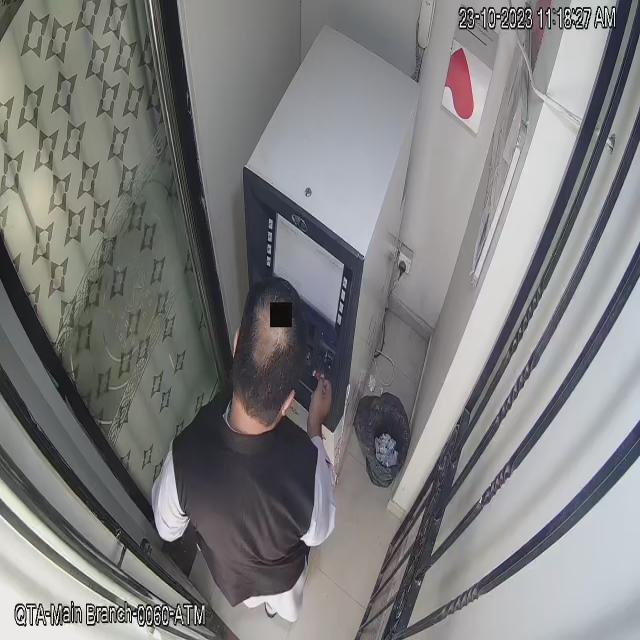atm-card: (307, 343, 336, 391)
